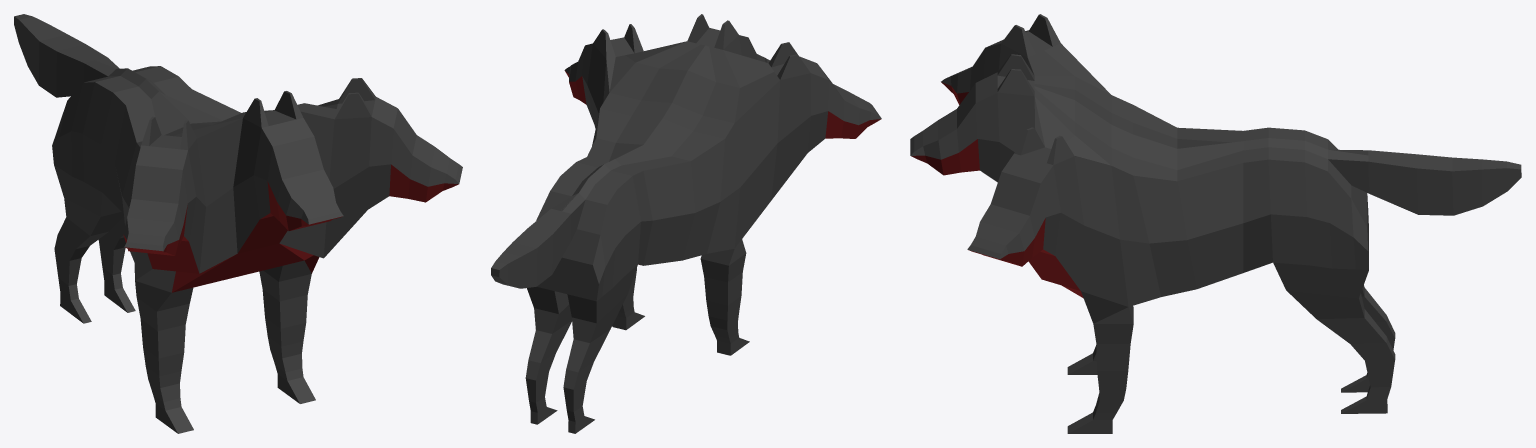
Rendered from Cerbero.fbx.
3 views of the same model, side by side, from view 1: azimuth 30°, elevation 25°; view 2: azimuth 150°, elevation 25°; view 3: azimuth 270°, elevation 25° (orthographic). The views are drawn at different scales.
Parts seen in each view (by area): view 1: Cubo.001; view 2: Cubo.001; view 3: Cubo.001.
Part boxes in pixels (x1=…): Cubo.001: x1=14, y1=14, x2=462, y2=433; Cubo.001: x1=491, y1=14, x2=881, y2=433; Cubo.001: x1=910, y1=14, x2=1521, y2=433.
Size of the model in its own units: 211 by 194 by 317.
1 material, 1 textured.
